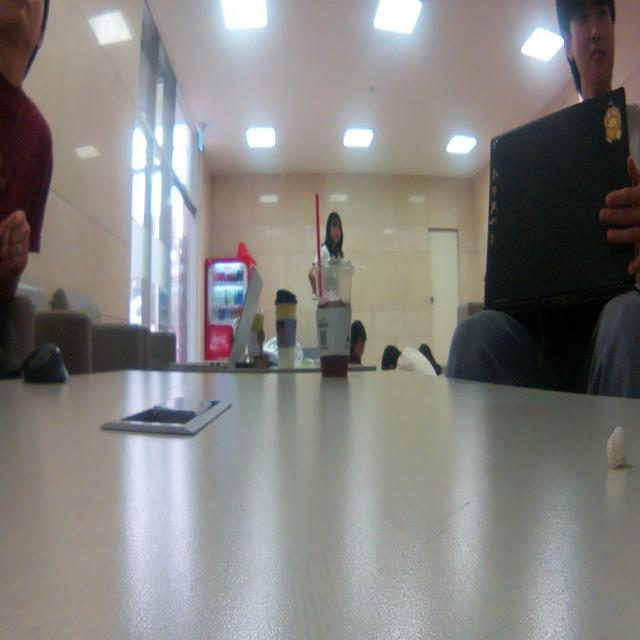target: (252, 329, 270, 369)
